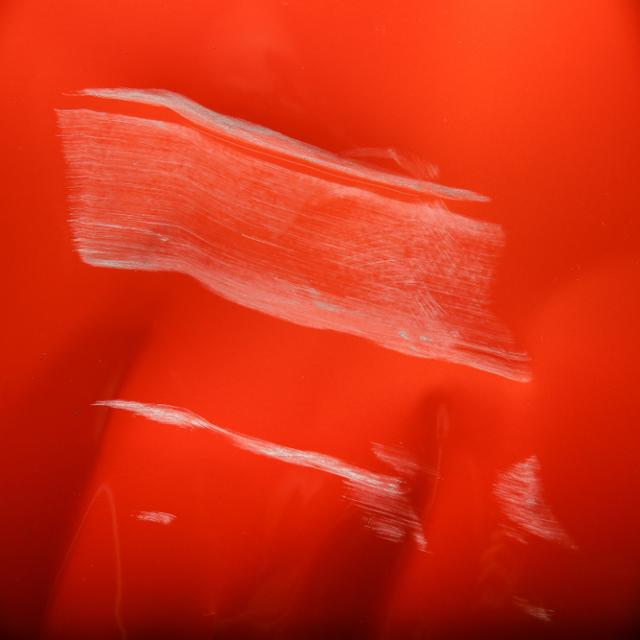Cabossage: (290, 368, 500, 640), (0, 315, 148, 640)
Rayure: (51, 56, 530, 388), (92, 391, 426, 570), (490, 426, 595, 621)
